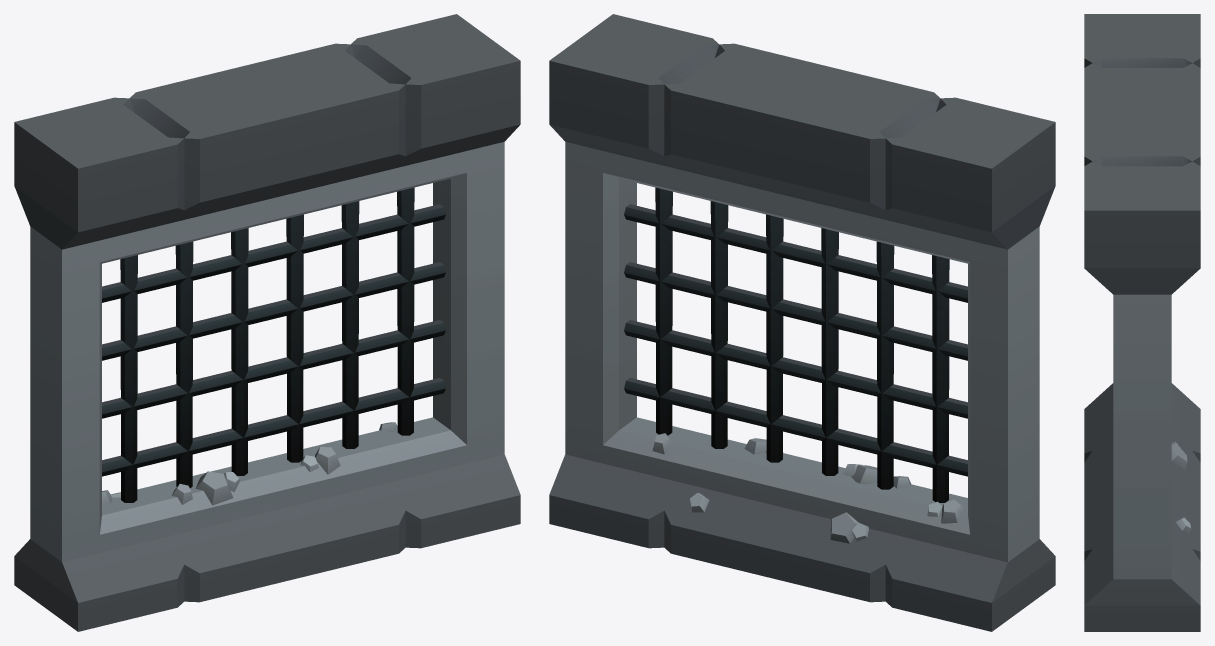
File: wall_gated.glb
3 views of the same model, side by side, from view 1: azimuth 30°, elevation 25°; view 2: azimuth 150°, elevation 25°; view 3: azimuth 270°, elevation 25° (orthographic). The views are drawn at different scales.
Visible parts, largest first — view 1: wall_gated; view 2: wall_gated; view 3: wall_gated.
Boxes of the visible parts, x1,y1,x2,y2 form: wall_gated: [14, 14, 520, 631]; wall_gated: [549, 14, 1055, 631]; wall_gated: [1084, 14, 1200, 631].
Bounding box in the file's own units: 4 × 4 × 1.
1 material, 1 textured.
